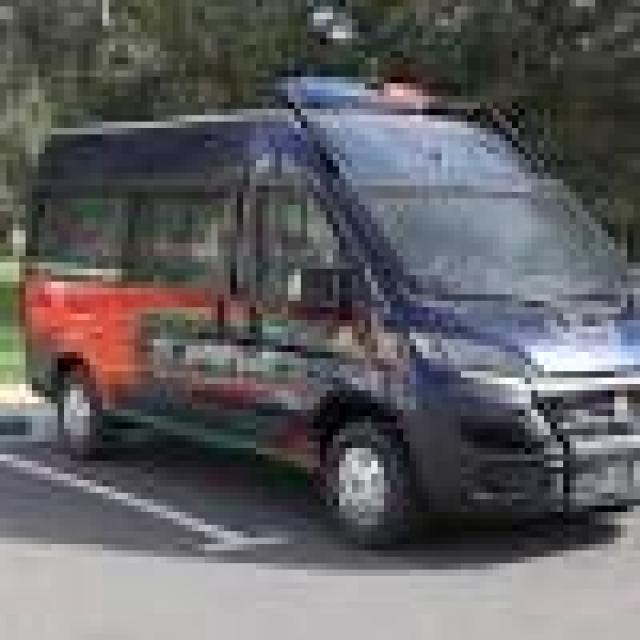police: (26, 70, 640, 540)
